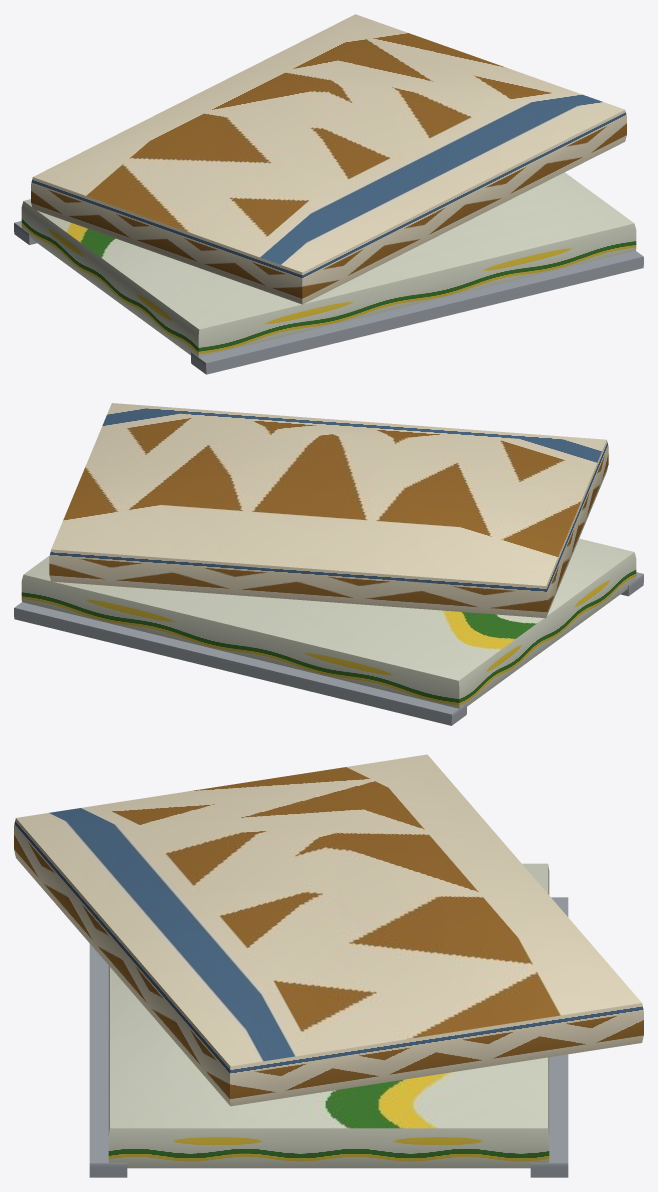
The model's file is ration_pouch_vegetable_flat.glb.
3 views of the same model, one above another, from view 1: azimuth 30°, elevation 25°; view 2: azimuth 150°, elevation 25°; view 3: azimuth 270°, elevation 25° (orthographic). The views are drawn at different scales.
Visible parts, largest first — view 1: ration_pouch_vegetable_flat; view 2: ration_pouch_vegetable_flat; view 3: ration_pouch_vegetable_flat.
Part boxes in pixels (left/top/right/bottom): ration_pouch_vegetable_flat: left=14, top=14, right=643, bottom=374; ration_pouch_vegetable_flat: left=14, top=403, right=643, bottom=725; ration_pouch_vegetable_flat: left=14, top=754, right=643, bottom=1177.
Bounding box in the file's own units: 0.2359 × 0.0722 × 0.2001.
Materials: 3 (2 with a texture image).
